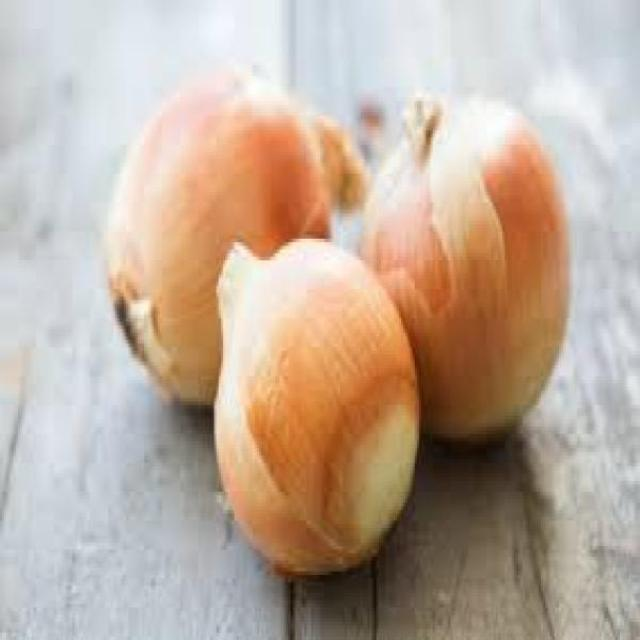Onion: (100, 62, 370, 410), (354, 93, 574, 450), (213, 238, 422, 582)
